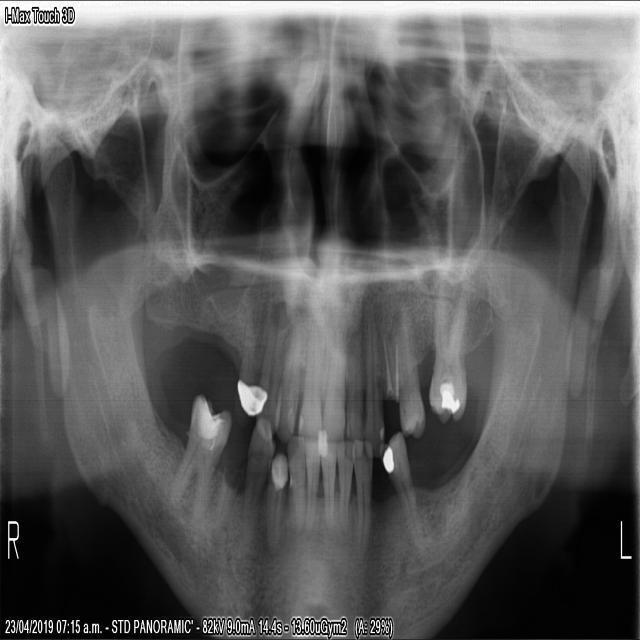LCU: (363, 306, 384, 461)
LID: (335, 439, 355, 533), (317, 441, 335, 540)
LIU: (321, 323, 344, 440), (344, 312, 364, 439)
LMU: (425, 269, 471, 427)
LPMD: (382, 428, 424, 550)
LPMU: (390, 302, 427, 443)
RIU: (272, 305, 300, 444), (296, 315, 321, 437), (285, 441, 304, 538), (303, 437, 318, 535)
RMD: (166, 389, 230, 535)
RPMD: (237, 412, 274, 548)
